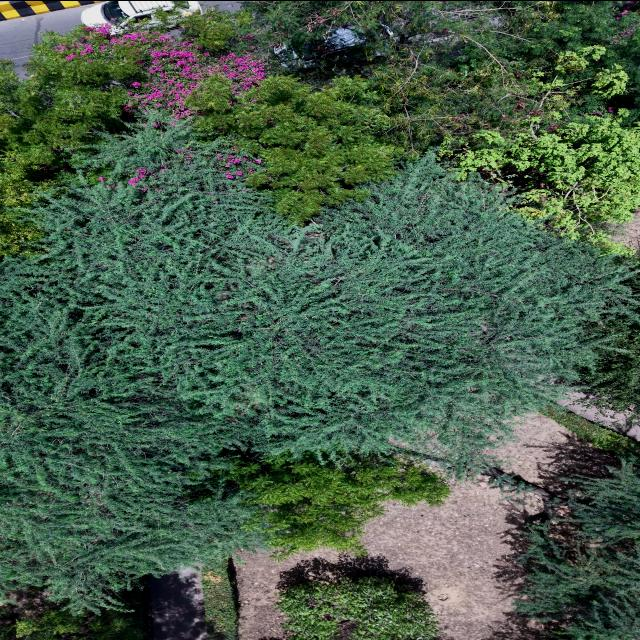DRY_AREA: (235, 478, 542, 639), (150, 568, 206, 639), (611, 208, 639, 249)
VEGETATION_TREE: (0, 1, 639, 611), (2, 127, 636, 606), (3, 127, 637, 463), (48, 1, 639, 251), (0, 329, 265, 610), (55, 12, 403, 223), (362, 1, 639, 244), (379, 1, 639, 244), (244, 1, 638, 156), (243, 1, 638, 155), (0, 414, 267, 610), (309, 1, 638, 150), (242, 1, 638, 121), (0, 25, 186, 255), (376, 1, 638, 145), (0, 28, 144, 254), (195, 75, 401, 223), (456, 110, 639, 253), (229, 453, 449, 559), (514, 459, 639, 639), (83, 12, 265, 119), (277, 577, 436, 639), (243, 1, 399, 57), (0, 589, 150, 639), (574, 318, 639, 419), (539, 404, 639, 456), (0, 605, 141, 639), (482, 466, 568, 517), (202, 558, 238, 639)
